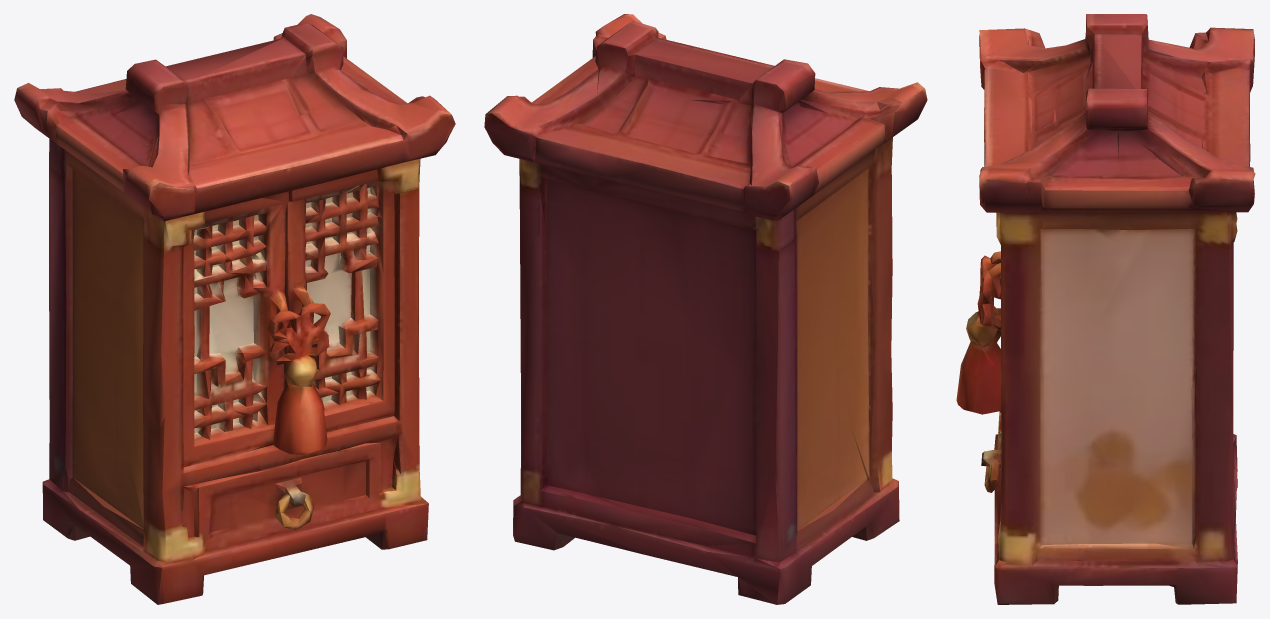
File: cabinet19.glb
3 renders of one model, left to right at view 1: azimuth 30°, elevation 25°; view 2: azimuth 150°, elevation 25°; view 3: azimuth 270°, elevation 25°, orthographic.
Bounding box in the file's own units: 0.2176 × 0.3195 × 0.1794.
Materials: 1 (1 with a texture image).
